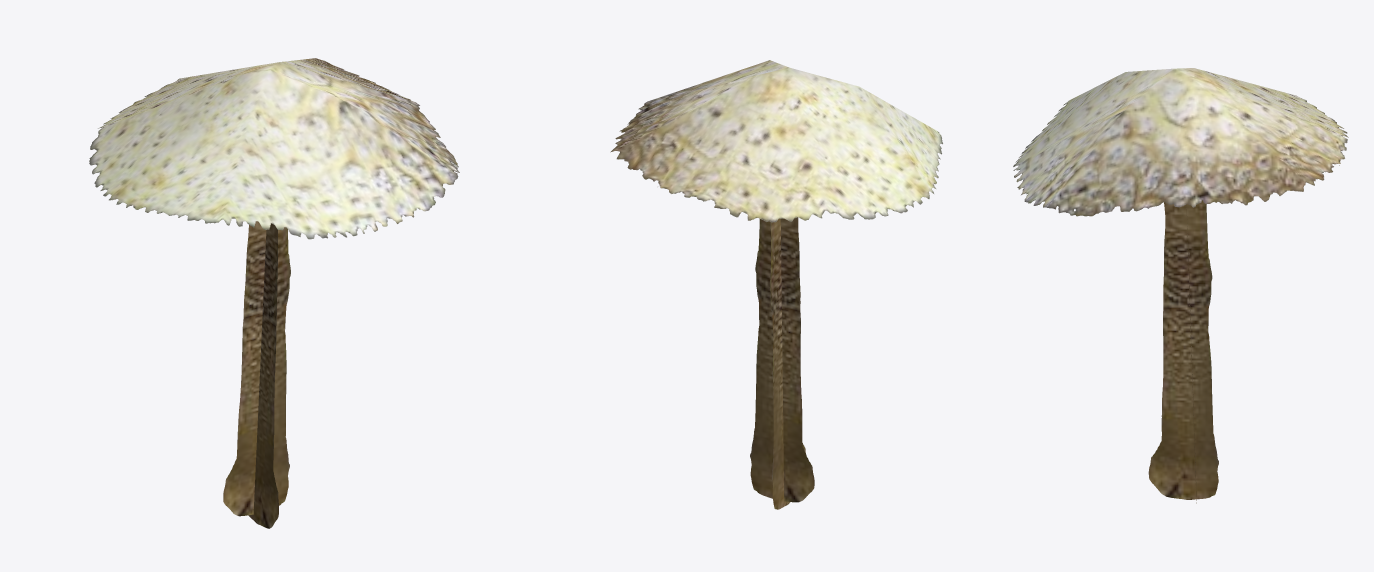
File: Mushroom_01_a.fbx
The picture shows the model from 3 angles, left to right: view 1: azimuth 30°, elevation 25°; view 2: azimuth 150°, elevation 25°; view 3: azimuth 270°, elevation 25°; orthographic projection. The views are drawn at different scales.
Visible parts, largest first — view 1: mushroom_01_a; view 2: mushroom_01_a; view 3: mushroom_01_a.
Boxes of the visible parts, <box> form: mushroom_01_a: <box>89,58,459,528</box>; mushroom_01_a: <box>610,60,942,509</box>; mushroom_01_a: <box>1013,68,1348,503</box>.
Size of the model in its own units: 0.2913 by 0.4534 by 0.2909.
